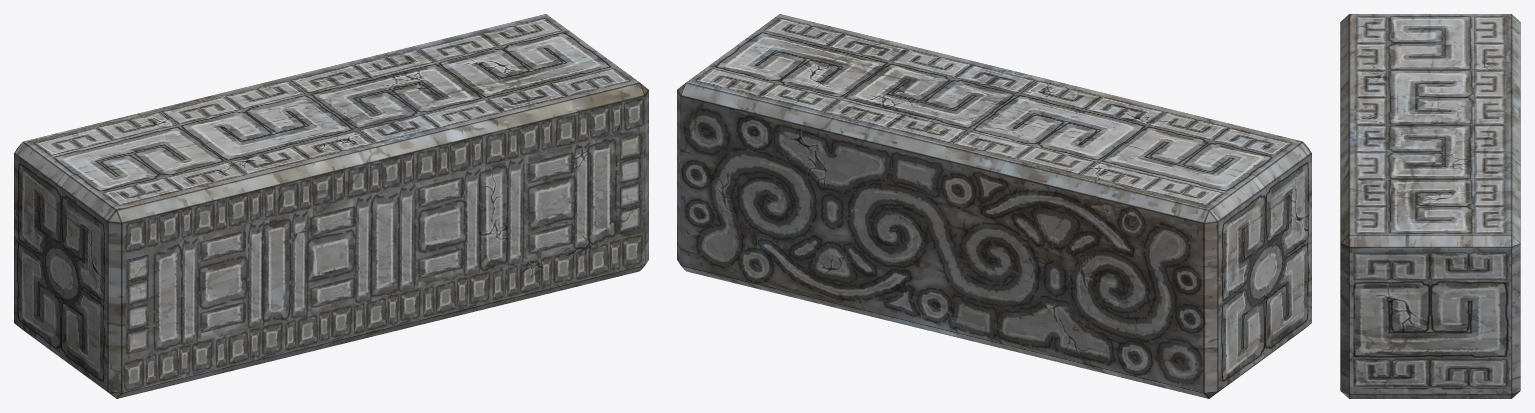
Rendered from oneby3.fbx.
3 renders of one model, left to right at view 1: azimuth 30°, elevation 25°; view 2: azimuth 150°, elevation 25°; view 3: azimuth 270°, elevation 25°, orthographic. The views are drawn at different scales.
Parts seen in each view (by area): view 1: oneby3; view 2: oneby3; view 3: oneby3.
Boxes of the visible parts, x1,y1,x2,y2 form: oneby3: [14, 14, 648, 398]; oneby3: [677, 14, 1311, 398]; oneby3: [1340, 14, 1520, 398].
Size of the model in its own units: 3 by 1 by 1.
